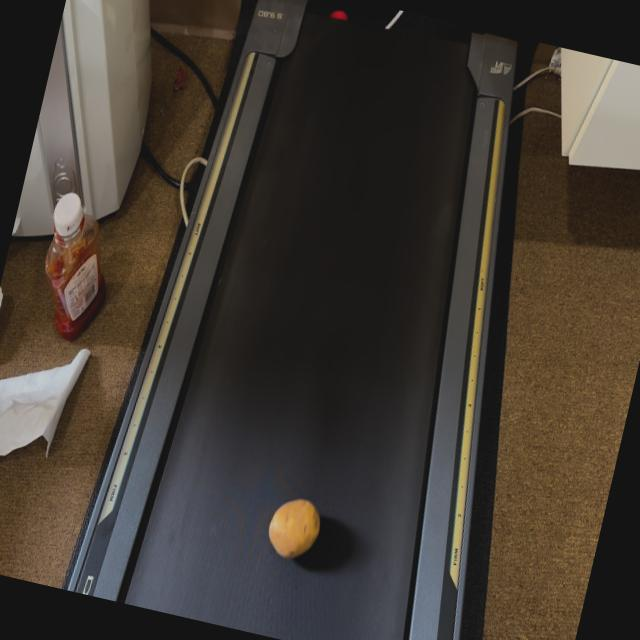Trash: (261, 492, 325, 564)
